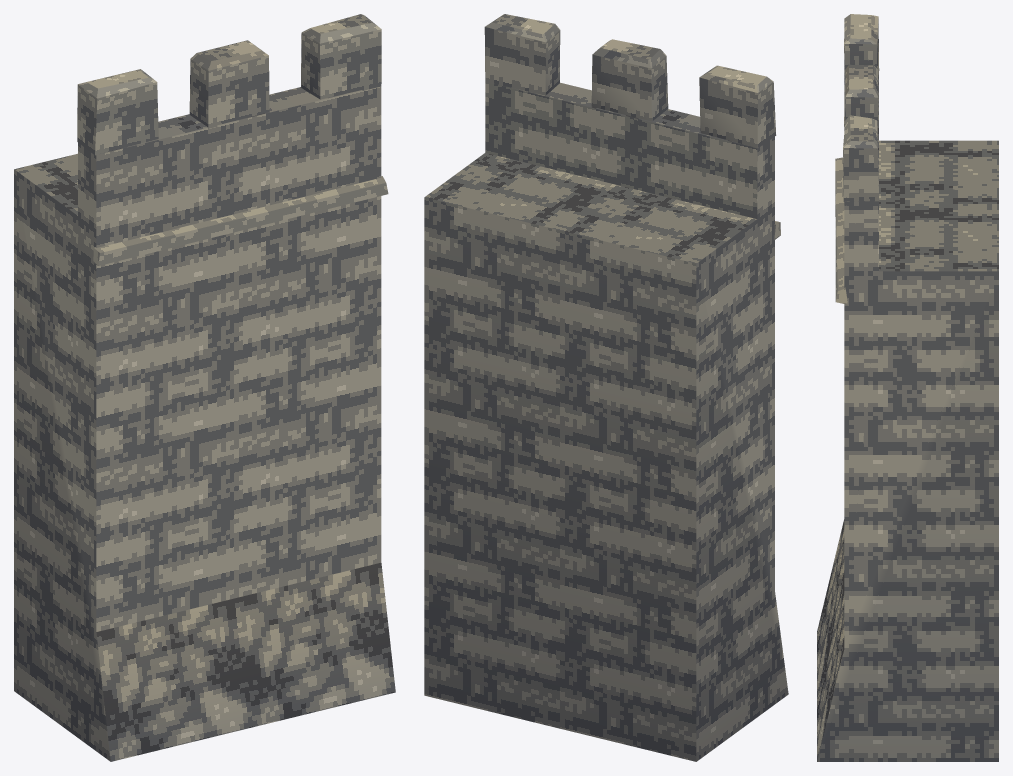
File: cst.curtain.glb
3 views of the same model, side by side, from view 1: azimuth 30°, elevation 25°; view 2: azimuth 150°, elevation 25°; view 3: azimuth 270°, elevation 25° (orthographic). The views are drawn at different scales.
Visible parts, largest first — view 1: kit_wall, kit_top, kit_detail; view 2: kit_wall, kit_top; view 3: kit_wall, kit_top, kit_detail.
Boxes of the visible parts, x1,y1,x2,y2 form: kit_wall: [14, 86, 395, 761]; kit_top: [77, 14, 381, 155]; kit_detail: [93, 176, 388, 265]; kit_wall: [424, 82, 788, 761]; kit_top: [484, 14, 776, 148]; kit_wall: [817, 75, 998, 761]; kit_top: [843, 14, 879, 201]; kit_detail: [835, 157, 847, 304].
Bounding box in the file's own units: 4.07 × 8.85 × 2.35.
Materials: 4 (4 with a texture image).
